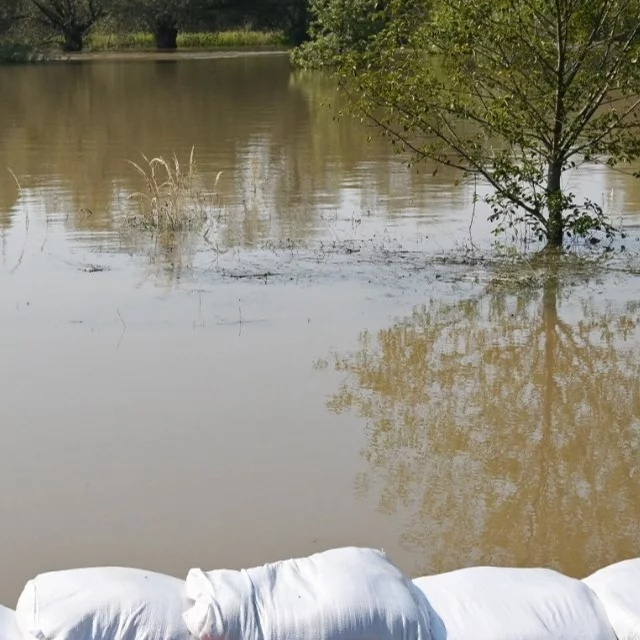sandbag: (182, 546, 431, 640), (414, 565, 616, 640), (16, 568, 199, 640), (584, 559, 640, 640)
